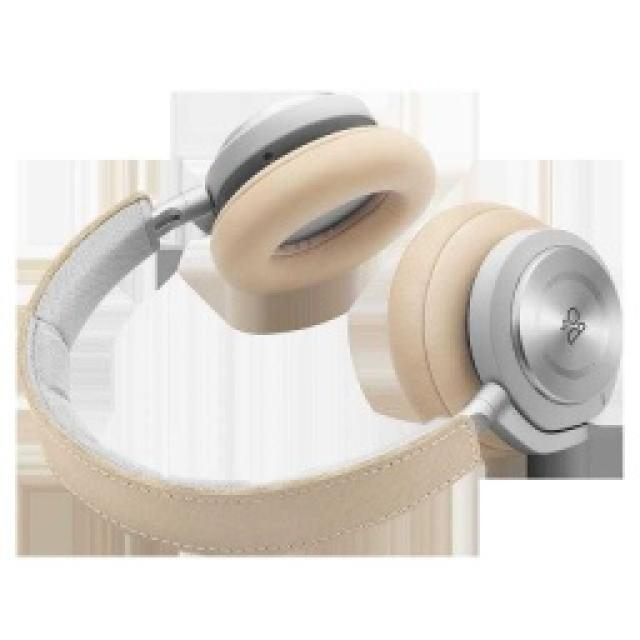headphones: (18, 90, 622, 552)
